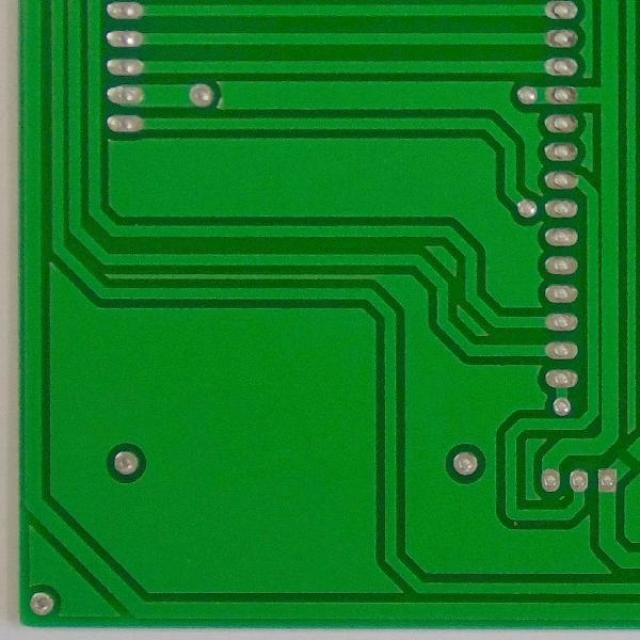open_circuit: (615, 449, 639, 475)
